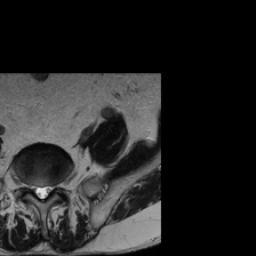CCS_severe_stenosis: (39, 180, 44, 206)
LFS_severe_stenosis: (51, 180, 58, 194)
LLS_normal: (44, 180, 50, 198)
RFS_severe_stenosis: (26, 178, 33, 196)
RLS_normal: (33, 180, 39, 199)
